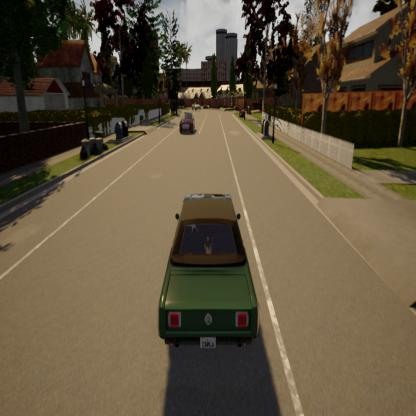Cars: (143, 186, 266, 358), (178, 108, 198, 138), (190, 100, 202, 113)
